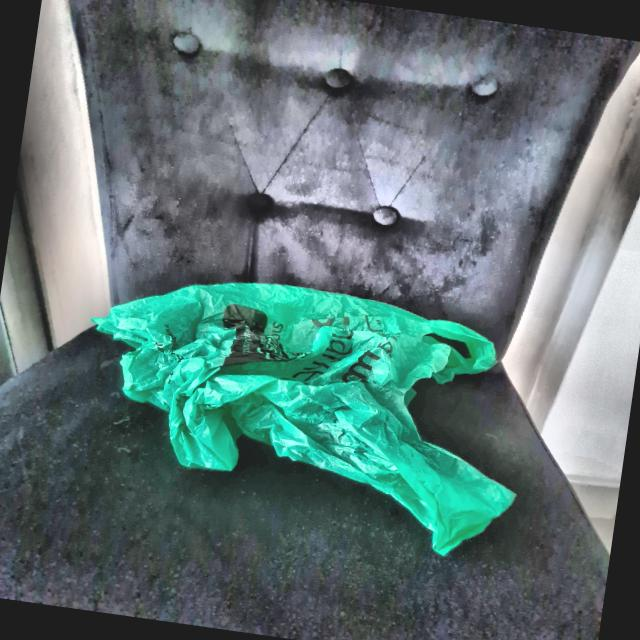plastic bag: (64, 256, 546, 566)
